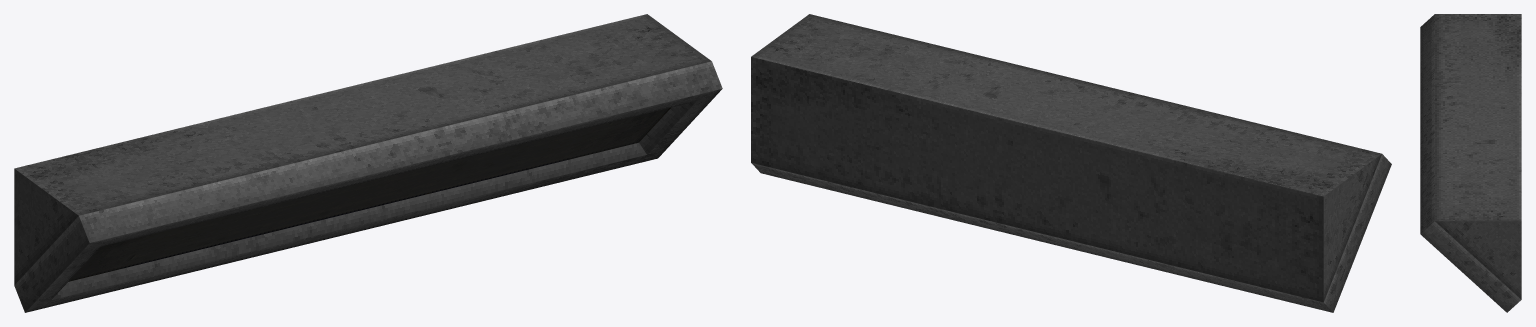
The model's file is lamp_3_off.glb.
3 renders of one model, left to right at view 1: azimuth 30°, elevation 25°; view 2: azimuth 150°, elevation 25°; view 3: azimuth 270°, elevation 25°, orthographic. The views are drawn at different scales.
Visible parts, largest first — view 1: lamp_3_off; view 2: lamp_3_off; view 3: lamp_3_off.
Part boxes in pixels (x1,y1,x2,y2): lamp_3_off: (14, 14, 722, 312); lamp_3_off: (751, 14, 1391, 312); lamp_3_off: (1420, 14, 1521, 312).
Bounding box in the file's own units: 1.2 × 0.2475 × 0.2475.
Materials: 1 (1 with a texture image).
